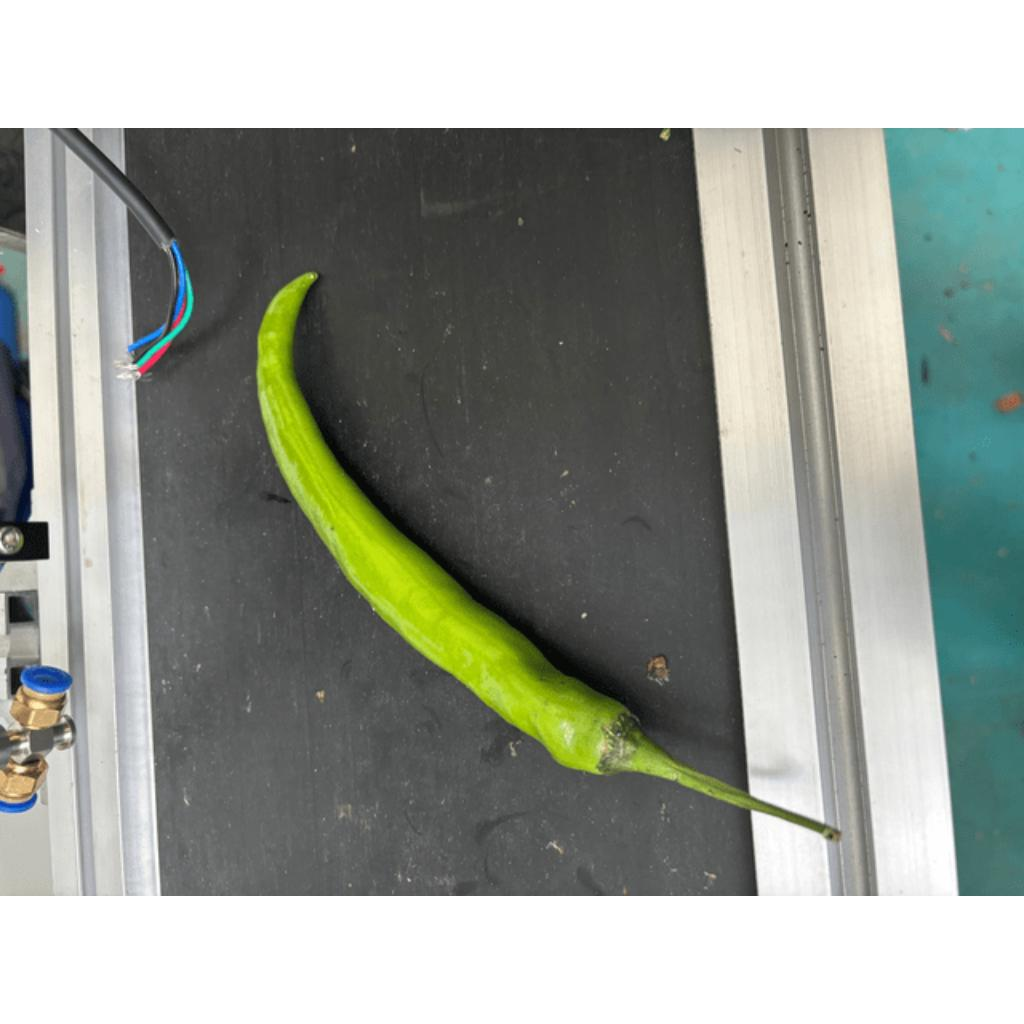chili: (256, 268, 645, 778)
